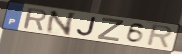6: (124, 22, 146, 44)
J: (76, 17, 98, 38)
N: (43, 10, 78, 37)
R: (144, 23, 174, 50), (22, 7, 48, 32)
Z: (95, 17, 125, 43)
